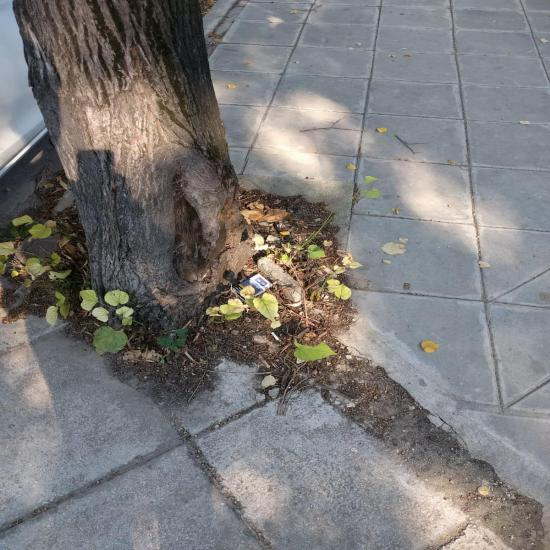Other carton: (231, 272, 275, 301)
Unlabeled litter: (270, 332, 281, 342)
